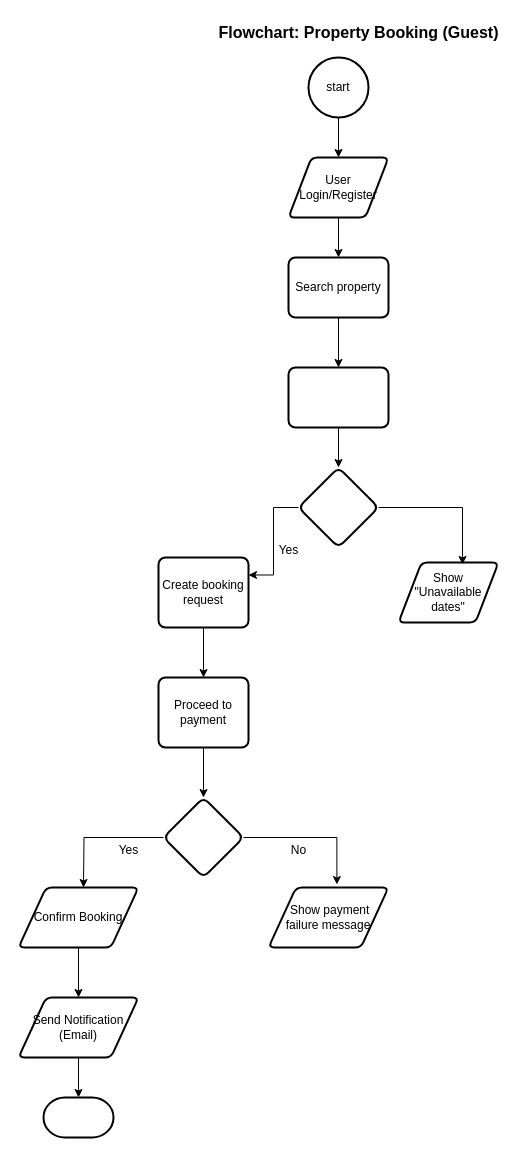
Some shapes in this 516 by 1155 pixel diagram are drawn without their labels. Each missing label, with the box of its shape:
Check Availability: (297, 466, 379, 548)
End: (42, 1096, 114, 1138)
Payment successful?: (162, 796, 244, 878)
Select property and │ │ enter booking dates: (287, 366, 389, 428)
